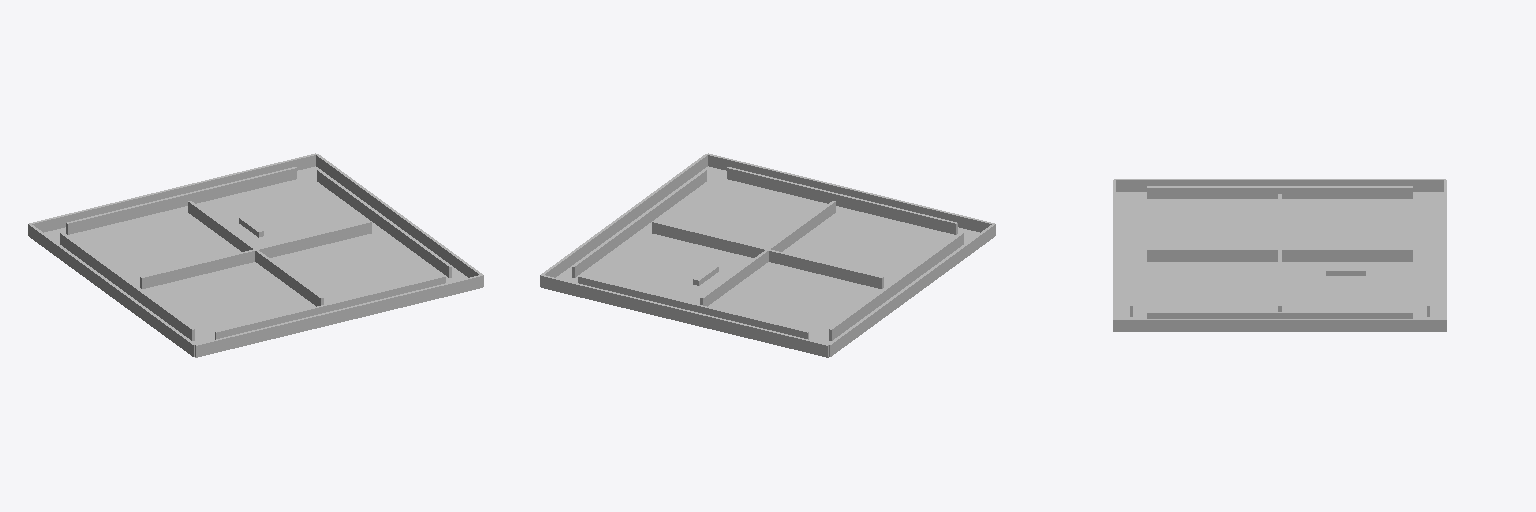
File: hako.obj
3 renders of one model, left to right at view 1: azimuth 30°, elevation 25°; view 2: azimuth 150°, elevation 25°; view 3: azimuth 270°, elevation 25°, orthographic.
Visible parts, largest first — view 1: Cube.010, Cube.008, Cube.001, Cube.004, Cube.009, Cube.006, Cube.007, Cube.003, Cube, Cube.002, Cube.005; view 2: Cube.010, Cube.009, Cube.003, Cube.004, Cube.008, Cube.006, Cube.007, Cube.001, Cube, Cube.002, Cube.005; view 3: Cube.010, Cube.007, Cube.002, Cube.005, Cube.006, Cube.
Boxes of the visible parts, box(x1,y1,x2,y2) form: Cube.010: box(44, 166, 467, 357); Cube.008: box(195, 275, 482, 357); Cube.001: box(66, 167, 296, 234); Cube.004: box(140, 221, 371, 288); Cube.009: box(29, 153, 316, 232); Cube.006: box(28, 224, 194, 356); Cube.007: box(316, 154, 483, 286); Cube.003: box(215, 276, 445, 339); Cube: box(317, 169, 451, 277); Cube.002: box(60, 232, 194, 340); Cube.005: box(188, 201, 323, 306); Cube.010: box(556, 166, 979, 357); Cube.009: box(541, 275, 828, 357); Cube.003: box(727, 167, 957, 234); Cube.004: box(652, 221, 883, 288); Cube.008: box(708, 153, 994, 232); Cube.006: box(829, 224, 995, 356); Cube.007: box(540, 154, 708, 286); Cube.001: box(578, 276, 808, 339); Cube: box(572, 169, 706, 277); Cube.002: box(829, 232, 963, 340); Cube.005: box(700, 201, 835, 306); Cube.010: box(1116, 192, 1443, 318); Cube.007: box(1114, 319, 1445, 331); Cube.002: box(1147, 186, 1412, 198); Cube.005: box(1147, 249, 1412, 261); Cube.006: box(1114, 179, 1445, 191); Cube: box(1147, 312, 1412, 318).
Size of the model in its own units: 101 by 4.25 by 101.